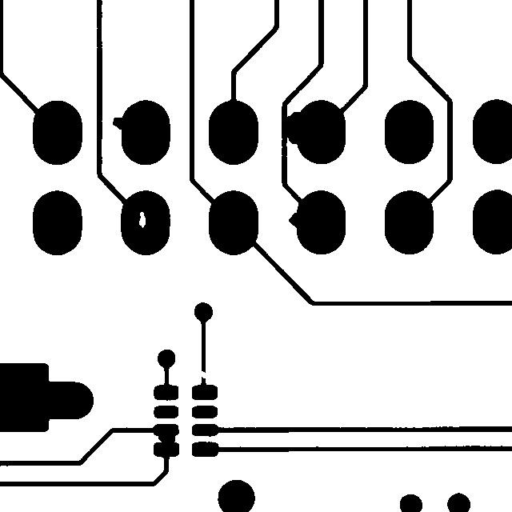open: (191, 363, 214, 386)
pin-hole: (131, 204, 153, 235)
short: (274, 104, 311, 151), (150, 424, 182, 451)
spur: (281, 205, 310, 236), (105, 110, 137, 137)
